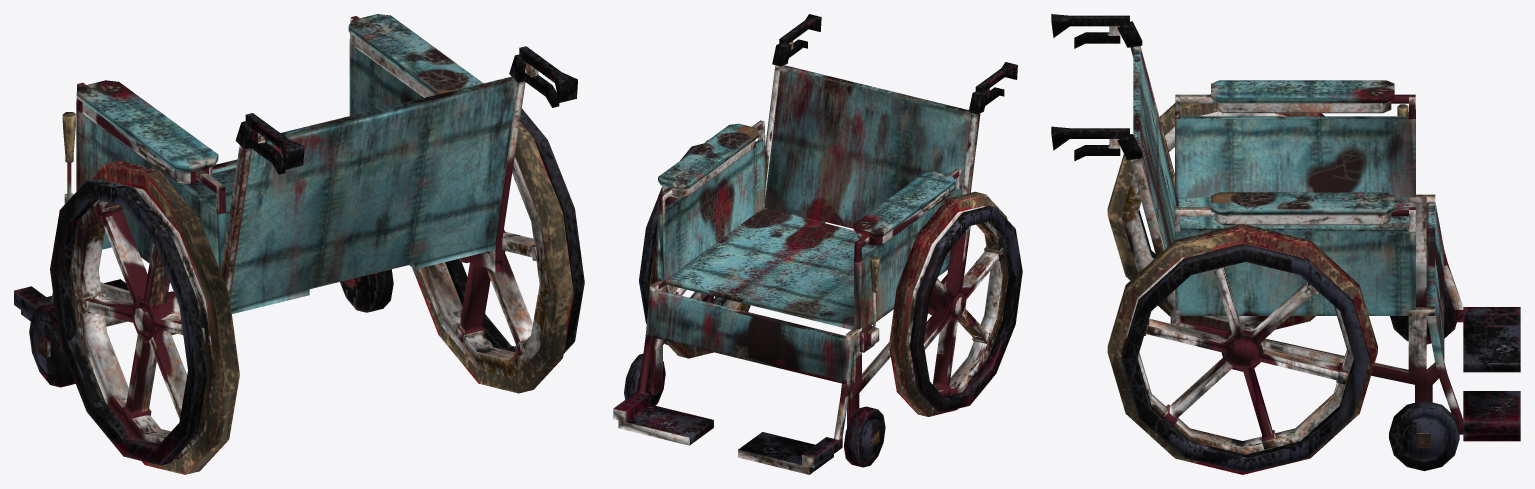
Rendered from kurumaisu.unity_1.obj.
3 views of the same model, side by side, from view 1: azimuth 30°, elevation 25°; view 2: azimuth 150°, elevation 25°; view 3: azimuth 270°, elevation 25° (orthographic). The views are drawn at different scales.
Parts seen in each view (by area): view 1: Mesh_LOD1; view 2: Mesh_LOD1; view 3: Mesh_LOD1.
Boxes of the visible parts, <box> form: Mesh_LOD1: <box>14,14,584,474</box>; Mesh_LOD1: <box>613,14,1022,474</box>; Mesh_LOD1: <box>1051,14,1520,474</box>.
Bounding box in the file's own units: 13.97 × 13.53 × 17.36.
Materials: 1 (1 with a texture image).
